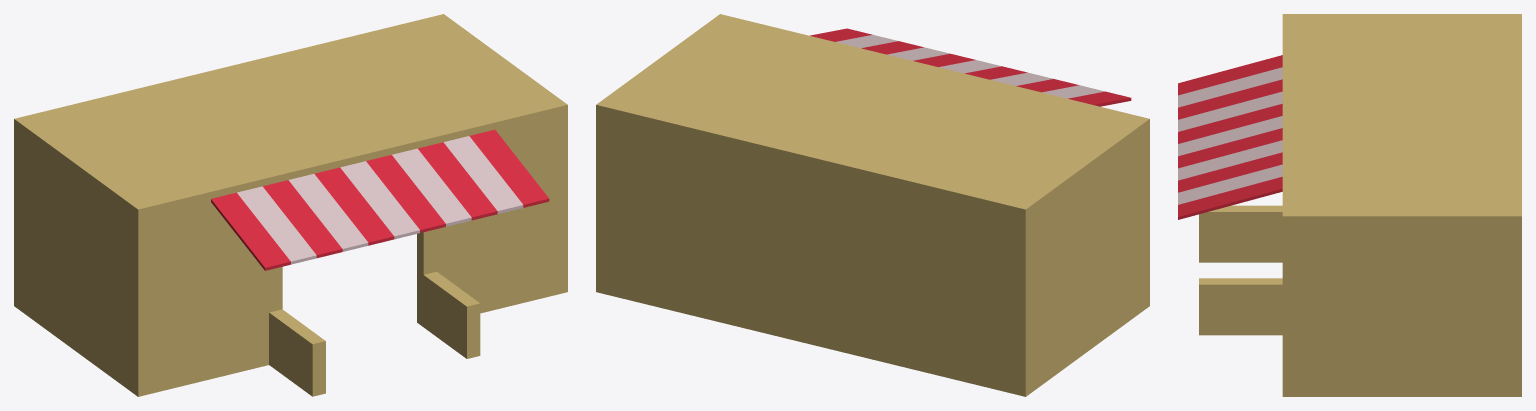
Rendered from Tienda.FBX.
3 views of the same model, side by side, from view 1: azimuth 30°, elevation 25°; view 2: azimuth 150°, elevation 25°; view 3: azimuth 270°, elevation 25° (orthographic). The views are drawn at different scales.
Visible parts, largest first — view 1: Tienda; view 2: Tienda; view 3: Tienda.
Part boxes in pixels (left/top/right/bottom): Tienda: left=14, top=14, right=567, bottom=396; Tienda: left=596, top=14, right=1149, bottom=396; Tienda: left=1178, top=14, right=1521, bottom=396.
Bounding box in the file's own units: 600 × 431 × 250.
